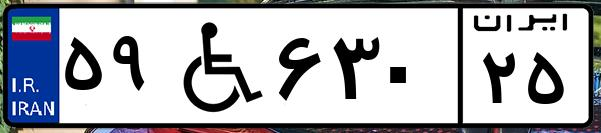0: (385, 28, 445, 110)
2: (475, 38, 525, 113)
3: (330, 28, 385, 110)
5: (57, 26, 110, 100), (525, 38, 570, 115)
6: (270, 28, 330, 110)
9: (110, 28, 158, 98)
ژ (معلولین و جانبازان): (158, 12, 270, 120)
